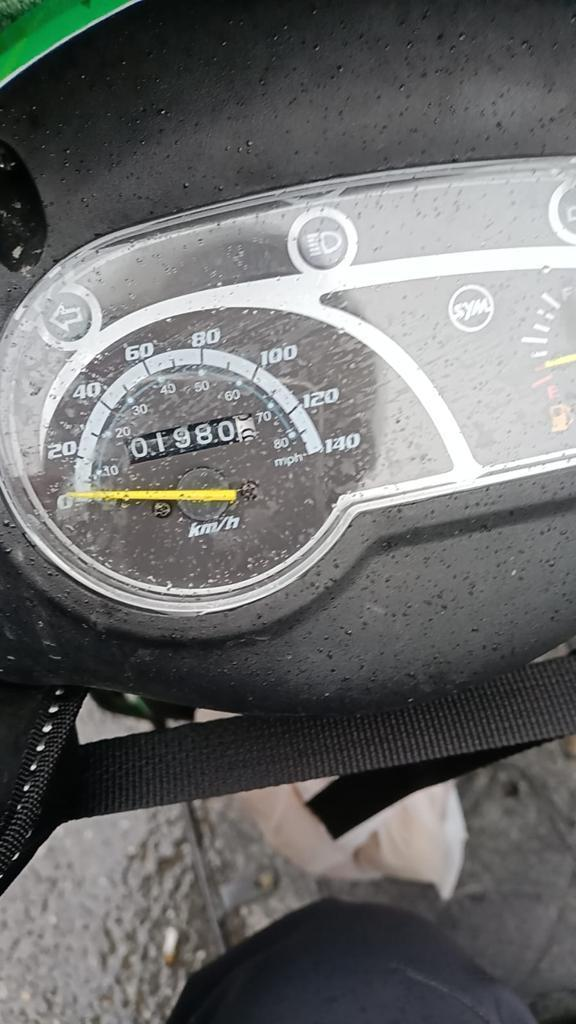0: (217, 419, 236, 444), (130, 435, 148, 459), (123, 424, 130, 436)
1: (154, 428, 168, 458)
6: (241, 426, 257, 448)
7: (255, 411, 262, 422)
8: (193, 420, 213, 446)
9: (171, 425, 192, 449)
odometer: (123, 412, 263, 464)
